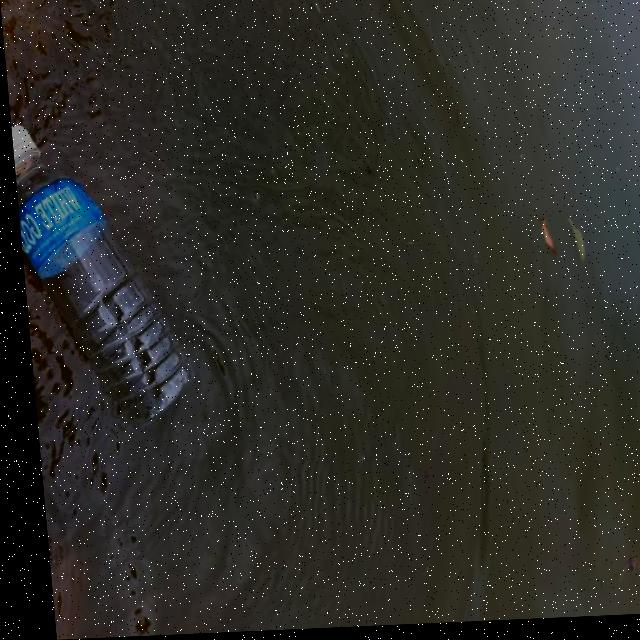waterbottle: (7, 100, 208, 433)
